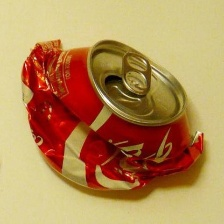can: (16, 31, 209, 195)
